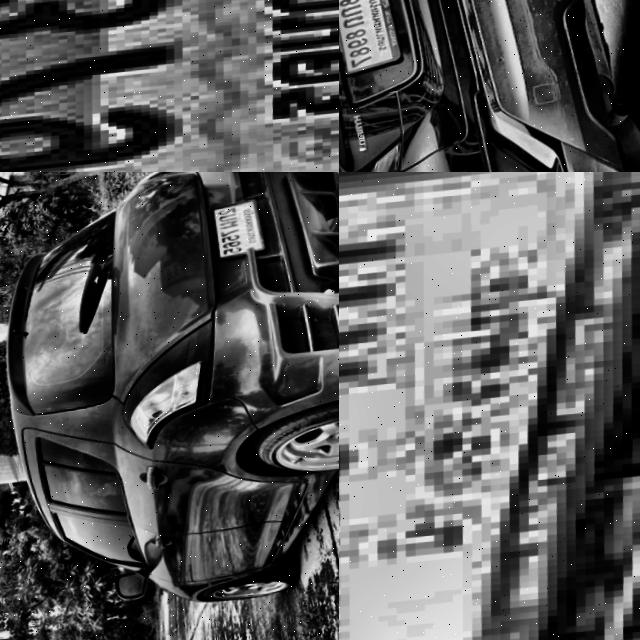license-plate: (339, 172, 640, 640), (0, 0, 339, 172), (339, 0, 411, 77), (206, 200, 269, 264)
